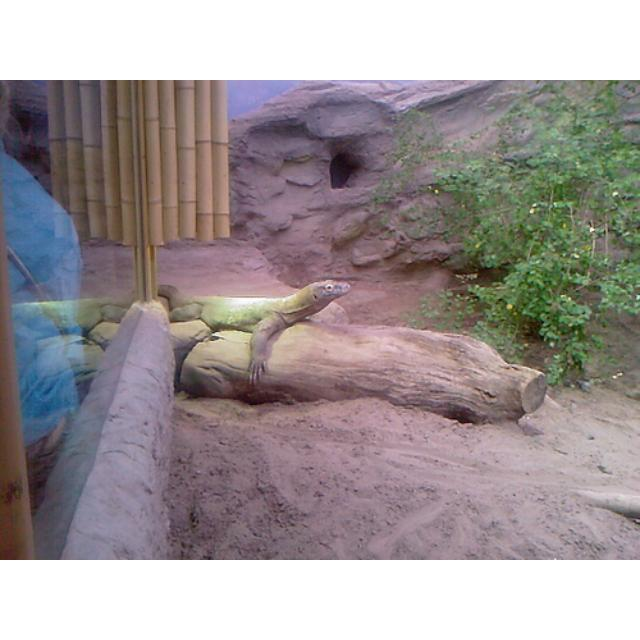KomodoDragon: (153, 277, 347, 388)
